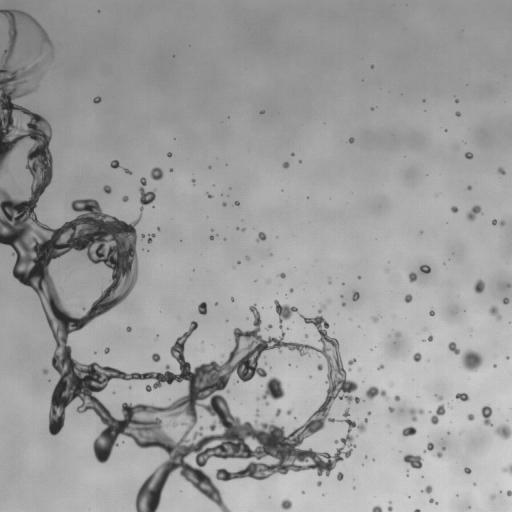droplet: (262, 377, 285, 404), (462, 350, 482, 371), (403, 454, 422, 468), (495, 424, 511, 439), (466, 205, 481, 220), (409, 408, 424, 421), (150, 167, 163, 180), (489, 306, 501, 319), (448, 342, 460, 354), (474, 279, 484, 293), (402, 426, 416, 436), (455, 392, 469, 401), (281, 499, 292, 509), (424, 442, 434, 452), (198, 302, 206, 314), (256, 232, 266, 241), (503, 463, 511, 474), (110, 160, 120, 168), (420, 265, 430, 273), (409, 272, 417, 282), (413, 352, 421, 362), (422, 485, 432, 493), (152, 353, 160, 362), (352, 291, 359, 301), (103, 185, 111, 193), (404, 294, 412, 302), (372, 505, 382, 511), (93, 96, 100, 103), (465, 152, 472, 159), (498, 167, 505, 174), (464, 467, 471, 474), (123, 168, 131, 174), (348, 359, 356, 365), (275, 408, 281, 416), (337, 472, 343, 480), (467, 414, 474, 420), (283, 162, 289, 168), (451, 206, 457, 212), (503, 298, 509, 304), (372, 316, 378, 322), (427, 335, 433, 341), (436, 451, 442, 457), (286, 409, 293, 414), (122, 196, 128, 201), (492, 219, 497, 225), (279, 273, 285, 278), (429, 310, 434, 316), (104, 347, 109, 353), (317, 364, 322, 370), (455, 111, 460, 116), (207, 193, 212, 198), (267, 324, 272, 329), (126, 326, 131, 331), (43, 369, 48, 374), (394, 396, 399, 401), (388, 407, 393, 412), (349, 137, 353, 143), (377, 365, 383, 369), (436, 396, 442, 400), (255, 410, 259, 416), (507, 490, 511, 496), (388, 505, 392, 511), (467, 185, 471, 190), (234, 201, 239, 205), (499, 221, 504, 225), (317, 481, 321, 486), (167, 152, 171, 156), (222, 202, 226, 206), (209, 235, 213, 239), (396, 332, 400, 336), (246, 256, 249, 260), (289, 289, 293, 292), (490, 495, 494, 498), (455, 99, 458, 102), (261, 110, 264, 113), (231, 298, 234, 301), (304, 334, 307, 337), (367, 411, 370, 414), (442, 447, 445, 450), (291, 153, 294, 155), (208, 166, 211, 168), (192, 179, 194, 182), (242, 228, 244, 231), (141, 235, 144, 237), (358, 276, 360, 279), (342, 303, 345, 305), (335, 440, 337, 443), (371, 65, 373, 67), (371, 107, 373, 109), (170, 169, 172, 171), (157, 228, 159, 230), (215, 303, 217, 305), (83, 307, 85, 309)
ligament: (0, 9, 367, 511), (365, 386, 388, 400), (430, 404, 445, 424), (481, 405, 492, 426), (147, 233, 155, 243), (429, 498, 437, 504), (414, 509, 420, 511)
